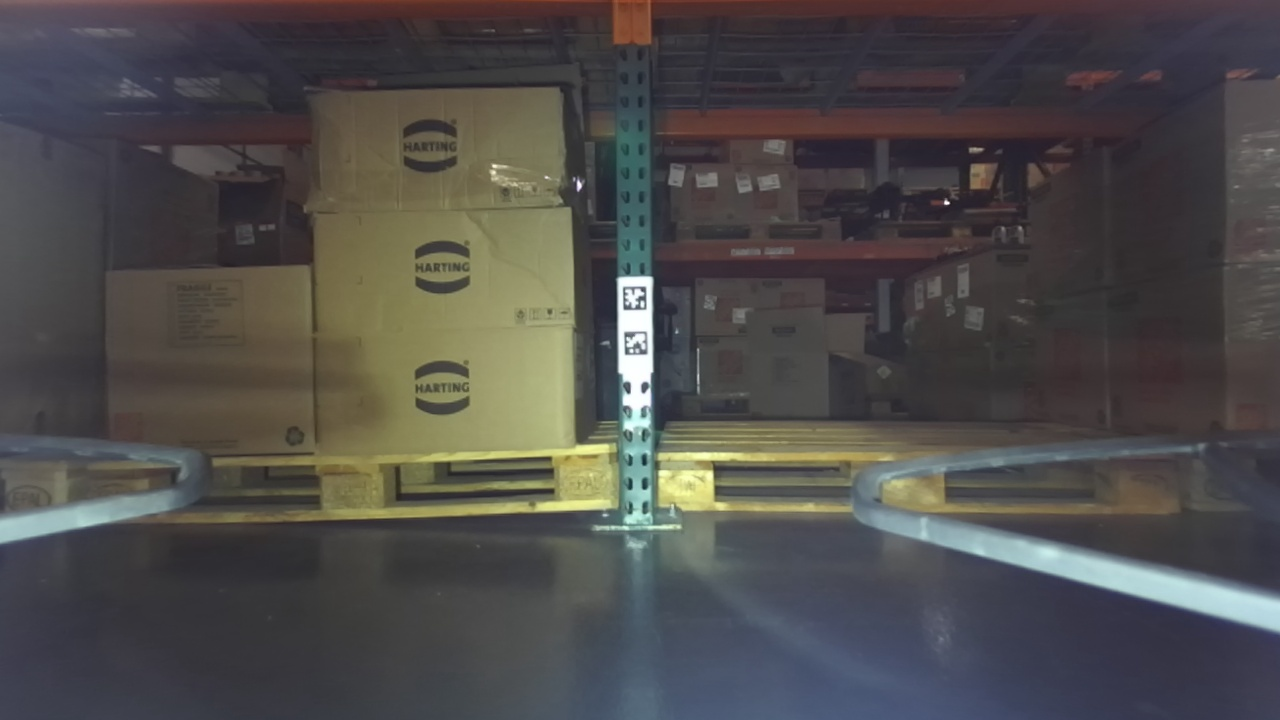box: (88, 254, 325, 463), (289, 193, 600, 343), (300, 321, 606, 461), (1095, 65, 1280, 293), (295, 73, 579, 217), (1096, 261, 1276, 455)
